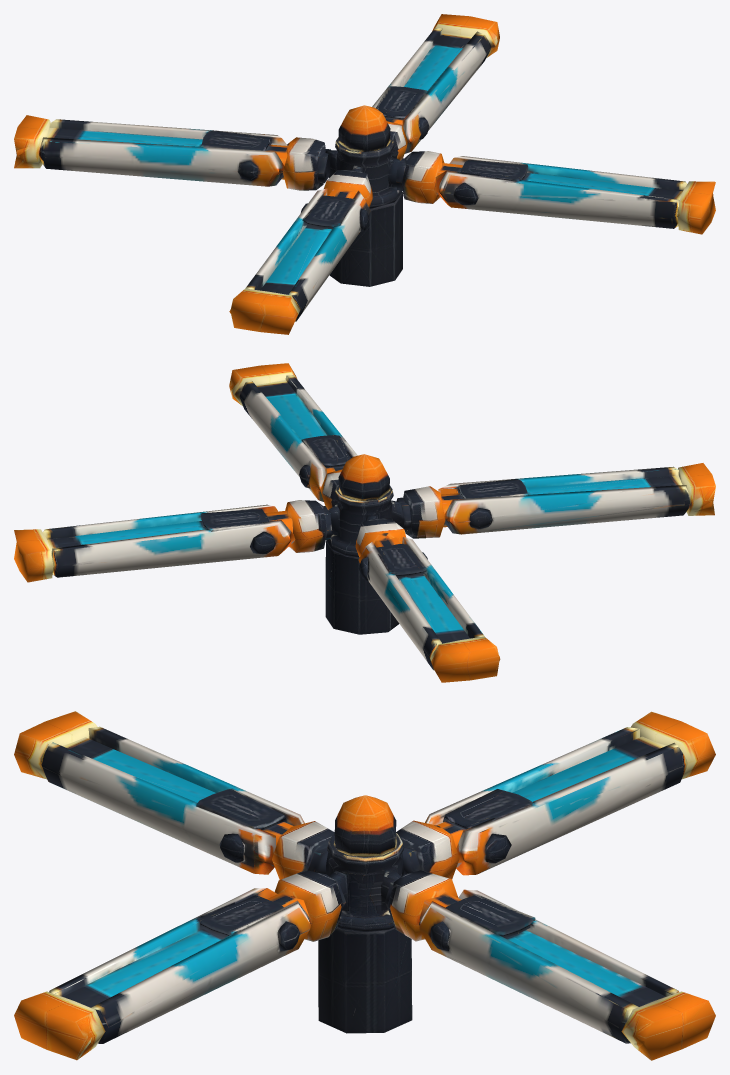
The model's file is Propeller.glb.
The picture shows the model from 3 angles, top to bottom: view 1: azimuth 30°, elevation 25°; view 2: azimuth 150°, elevation 25°; view 3: azimuth 270°, elevation 25°; orthographic projection. The views are drawn at different scales.
Bounding box in the file's own units: 1 × 0.3281 × 0.957.
Materials: 1 (1 with a texture image).
